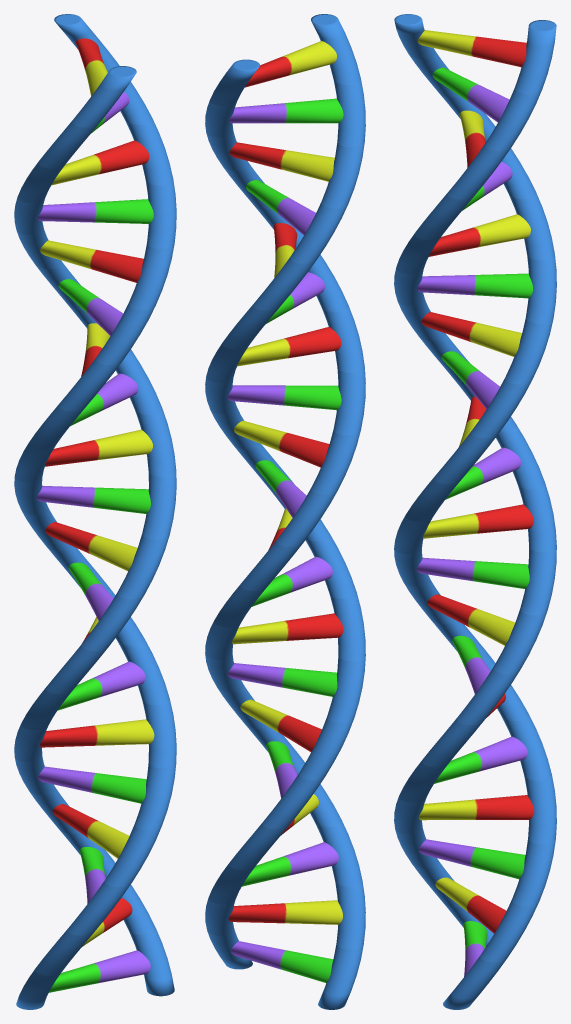
Rendered from dna.glb.
The picture shows the model from 3 angles, left to right: view 1: azimuth 30°, elevation 25°; view 2: azimuth 150°, elevation 25°; view 3: azimuth 270°, elevation 25°; orthographic projection.
Visible parts, largest first — view 1: DNA_Double_Helix; view 2: DNA_Double_Helix; view 3: DNA_Double_Helix.
Part boxes in pixels (x1=…): DNA_Double_Helix: x1=14, y1=14, x2=176, y2=1009; DNA_Double_Helix: x1=205, y1=14, x2=365, y2=1009; DNA_Double_Helix: x1=394, y1=14, x2=556, y2=1009.
Size of the model in its own units: 6.19 by 40 by 6.19.
Materials: 1 (1 with a texture image).
